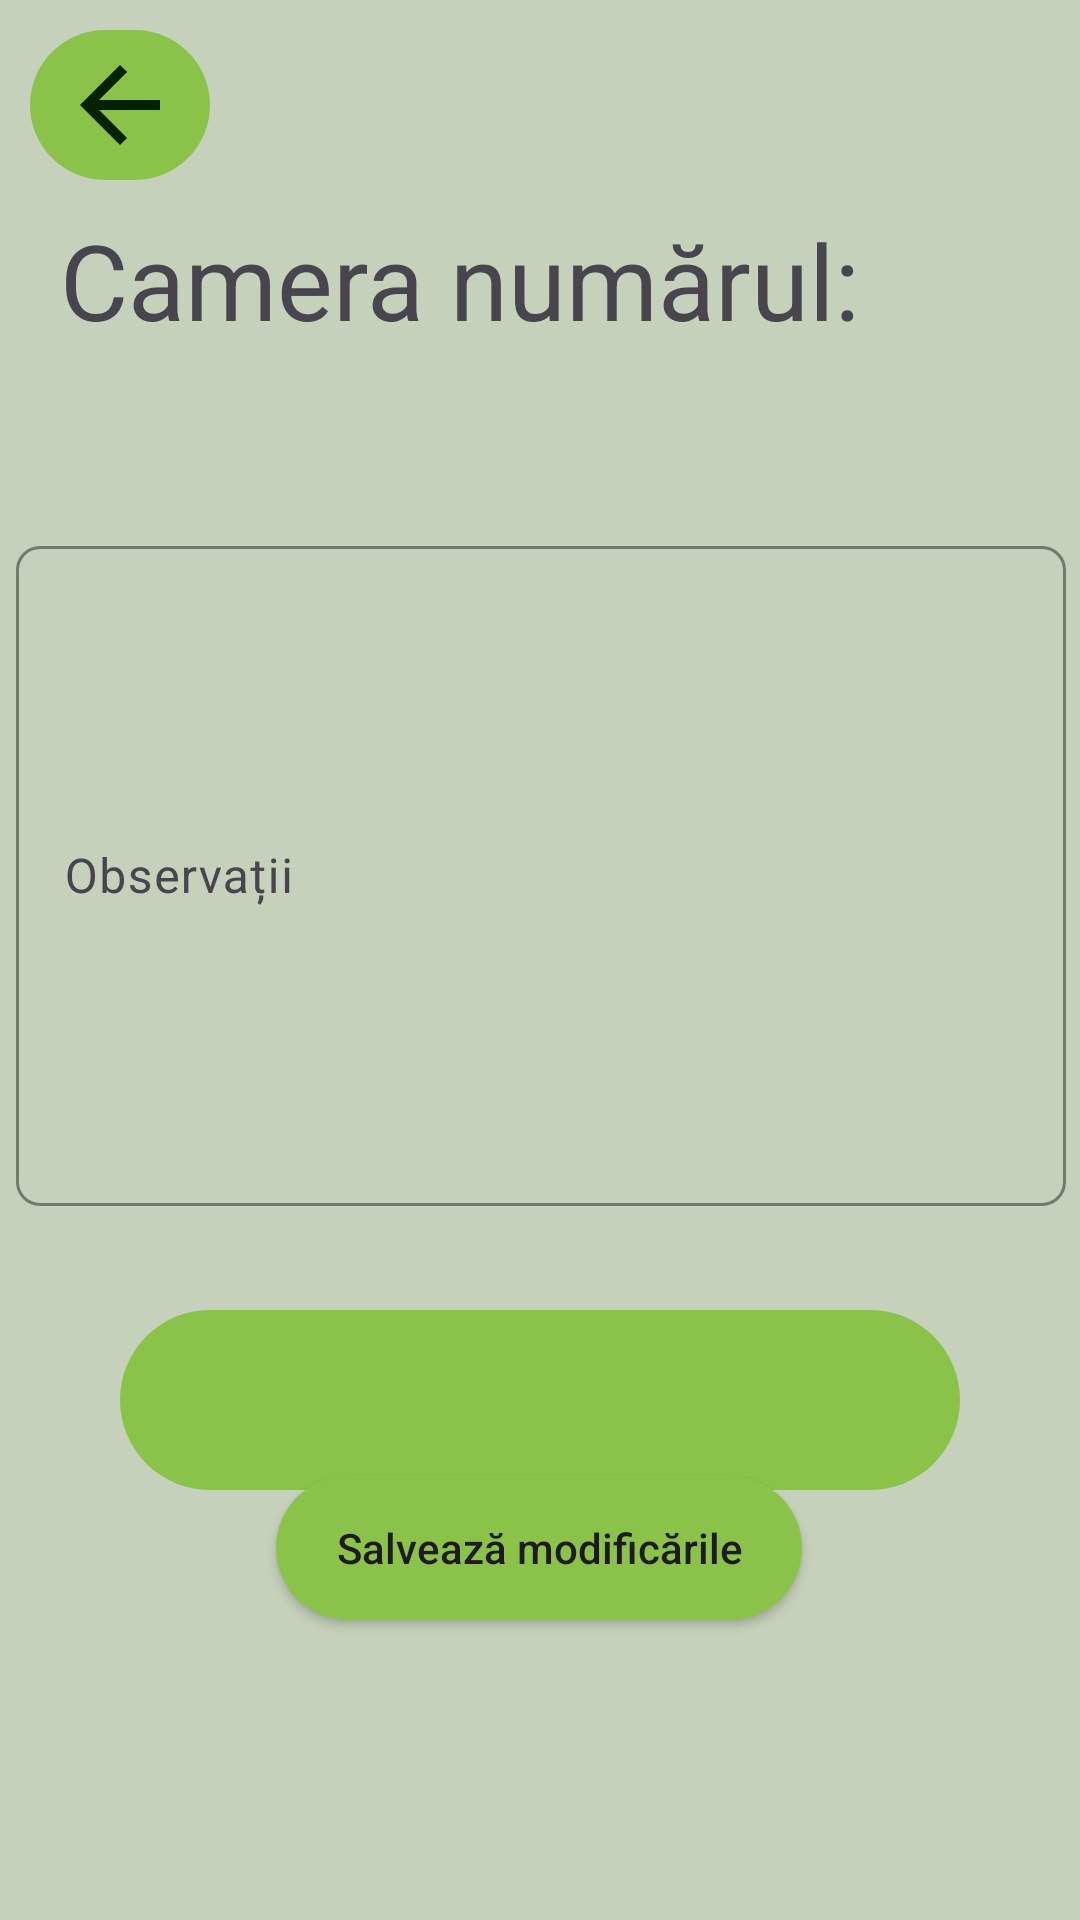

Named icons in this screenshot (1080×1920) and their centers, point (x, y):
back arrow: point (120, 105)
